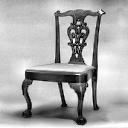chair_success: (18, 5, 107, 125)
